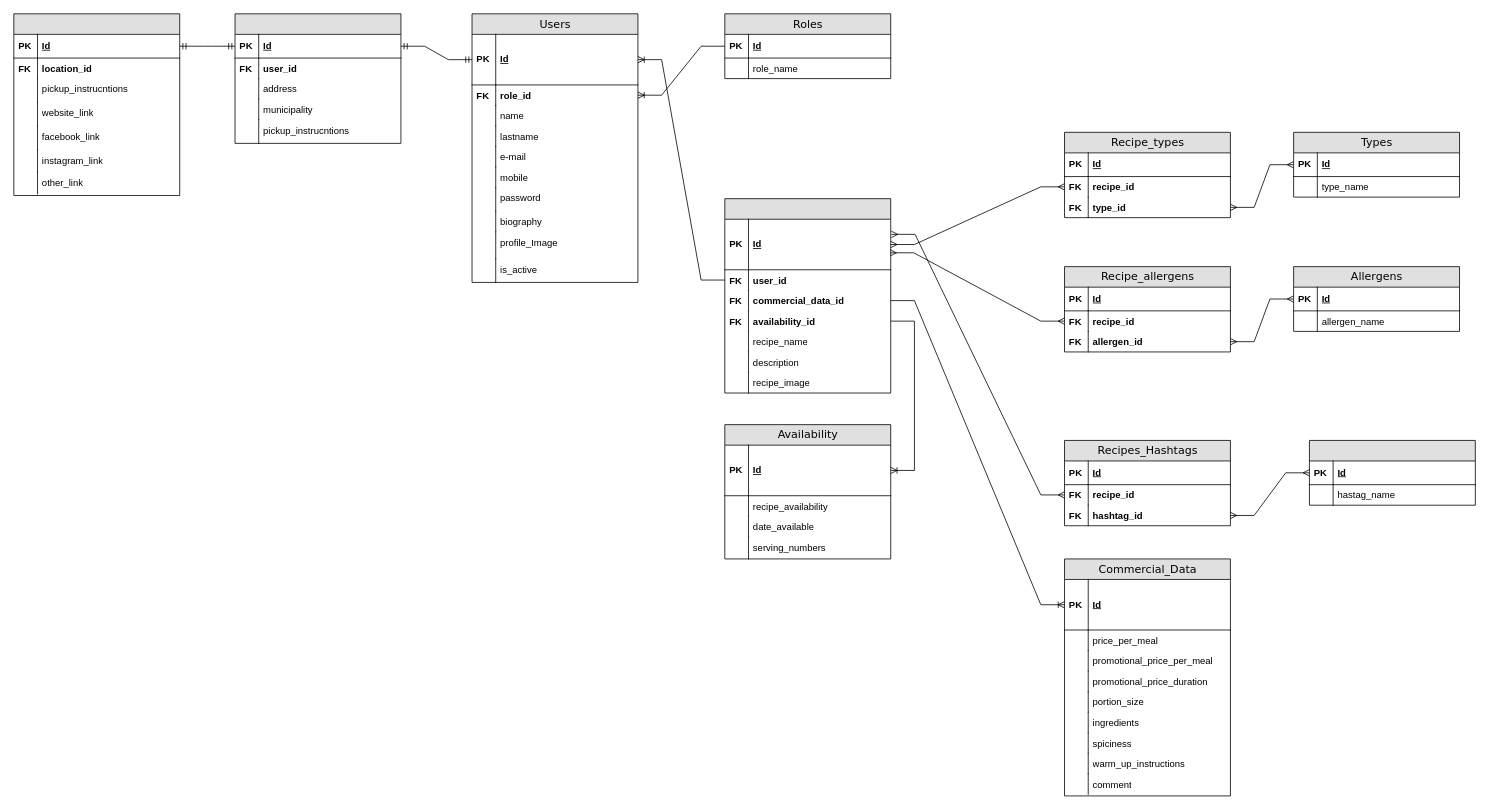
Some shapes in this 1489 by 811 pixel diagram are drawn without their labels. The shapes that lost their labels are listed below. From the top down, each one's box as (x1, y1, x2, y2) in pixels, then its label:
(234, 13, 401, 143): Locations
(13, 13, 180, 196): cooks
(724, 198, 891, 393): Recipes
(1309, 440, 1475, 505): Hastags
